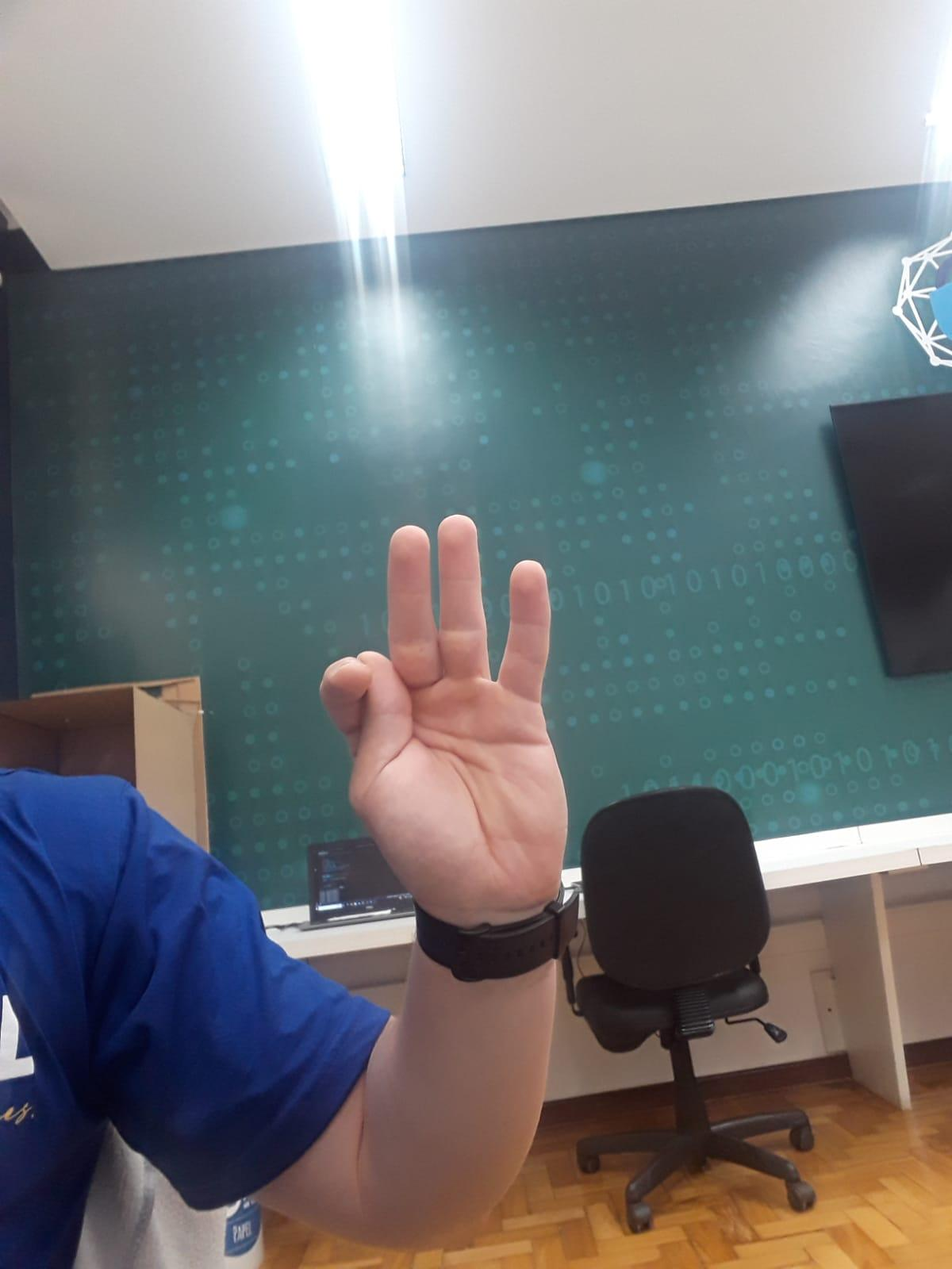T: (311, 510, 583, 902)
